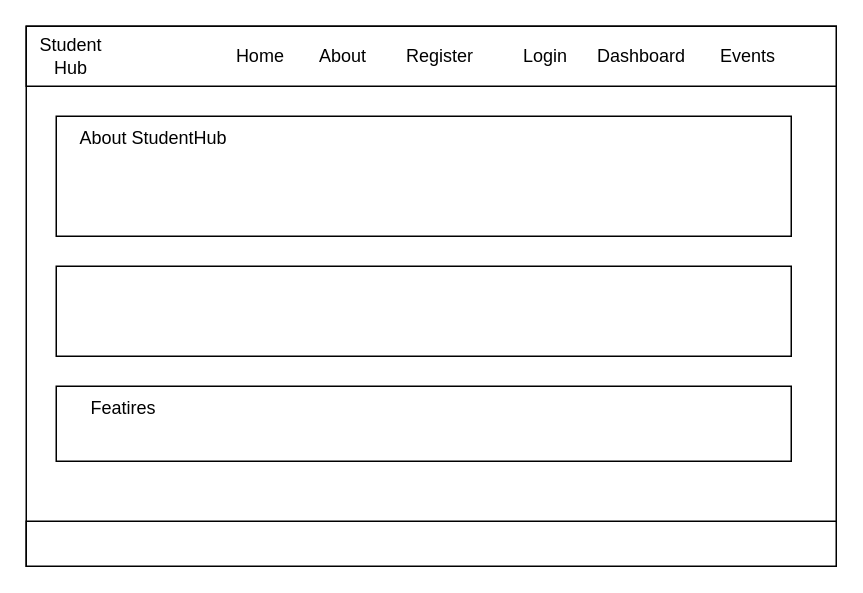
Image size: 863x593. Some labels were removed from this diagram. The centre of each missing label's shape, as x and y in pixels:
FOOTER: the point at 430,543
Our Mission: the point at 423,310
